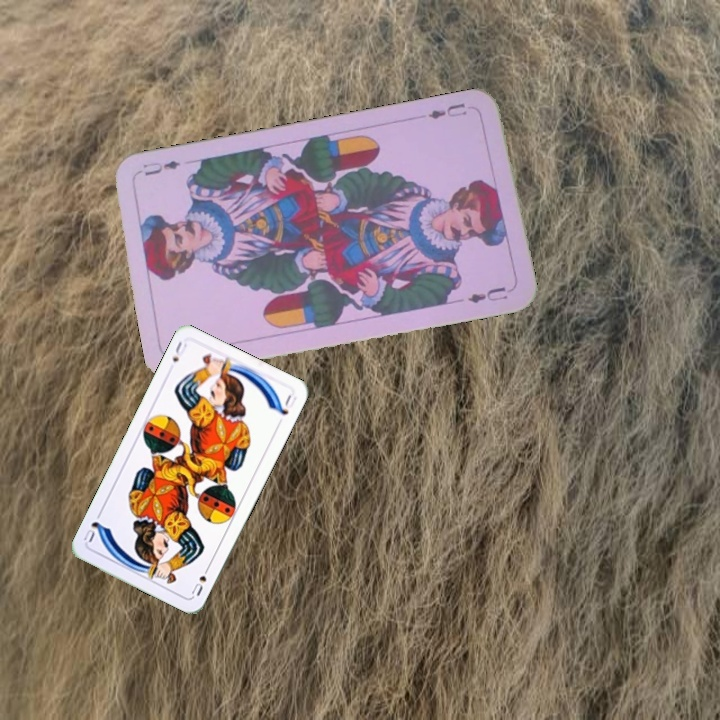EU: (423, 98, 470, 122)
SU: (187, 561, 212, 599), (168, 337, 189, 365)
